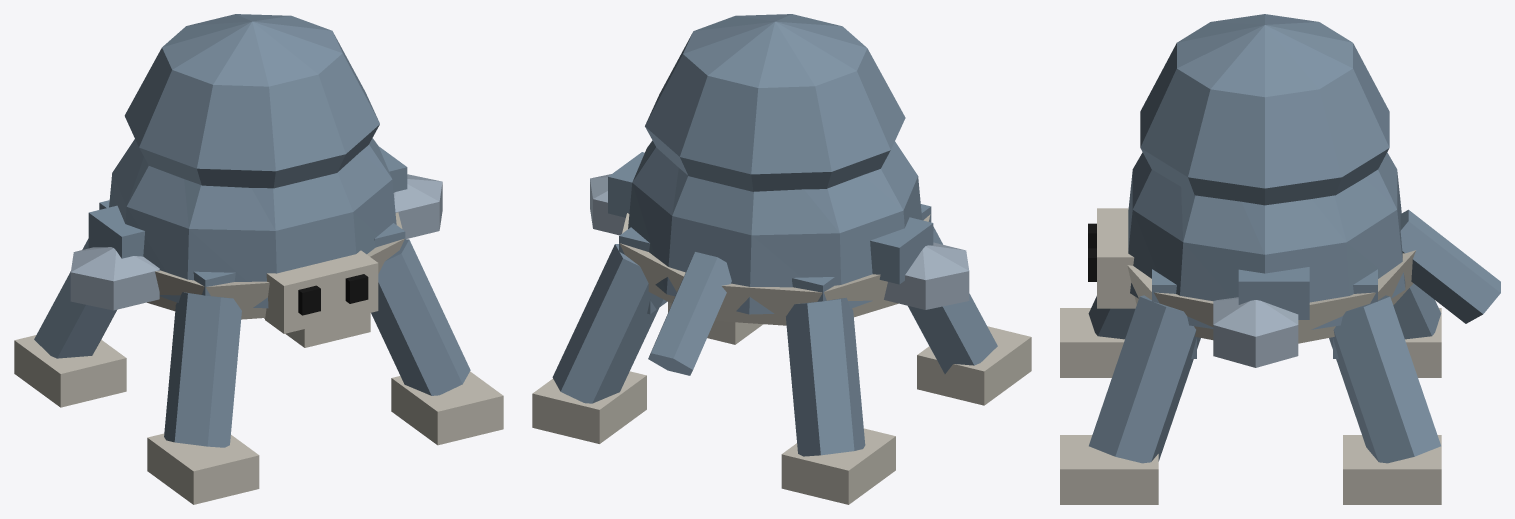
The model's file is mistank.glb.
3 renders of one model, left to right at view 1: azimuth 30°, elevation 25°; view 2: azimuth 150°, elevation 25°; view 3: azimuth 270°, elevation 25°, orthographic. The views are drawn at different scales.
Visible parts, largest first — view 1: Mistank; view 2: Mistank; view 3: Mistank.
Part boxes in pixels (bbox=[...]): Mistank: bbox=[14, 14, 503, 504]; Mistank: bbox=[532, 14, 1031, 504]; Mistank: bbox=[1060, 14, 1500, 504].
Bounding box in the file's own units: 0.56 × 0.54 × 0.54.
